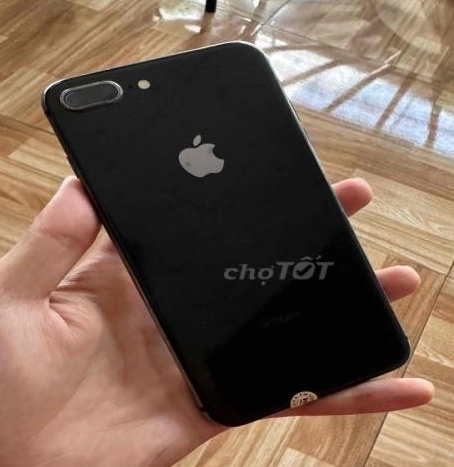scratch: (55, 75, 126, 110), (172, 139, 225, 177)
